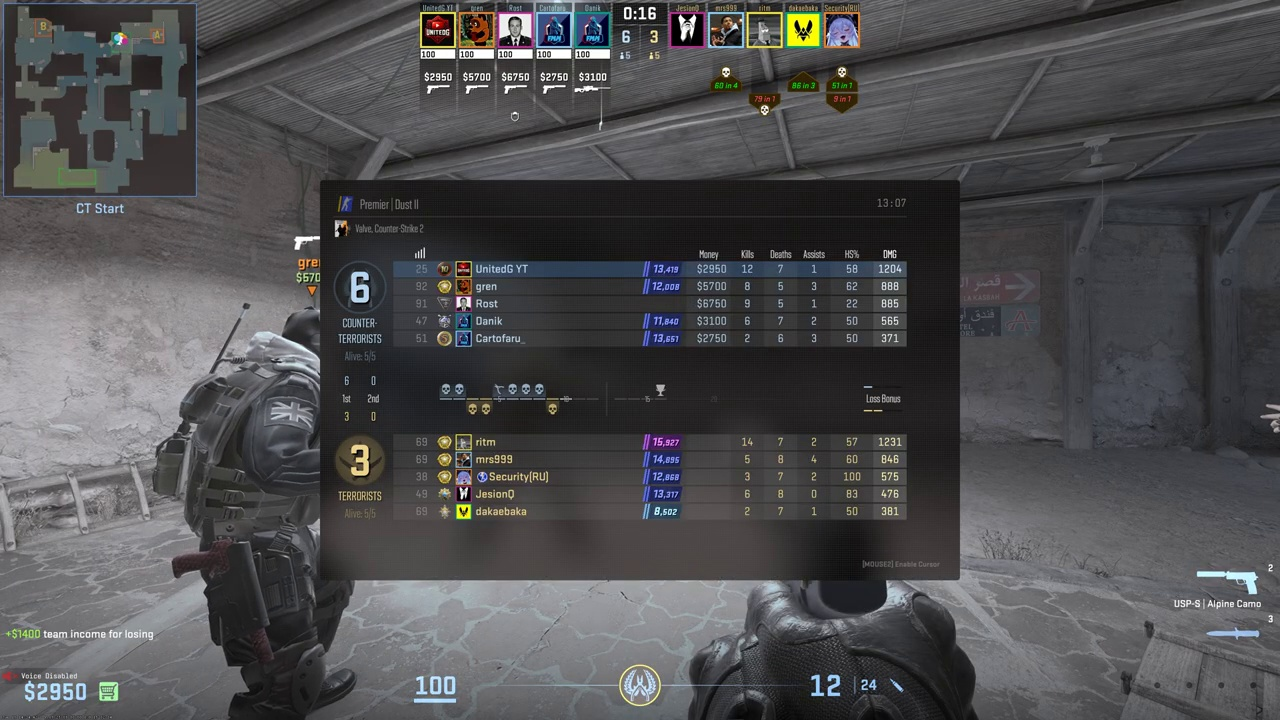CT: (190, 305, 329, 713)
